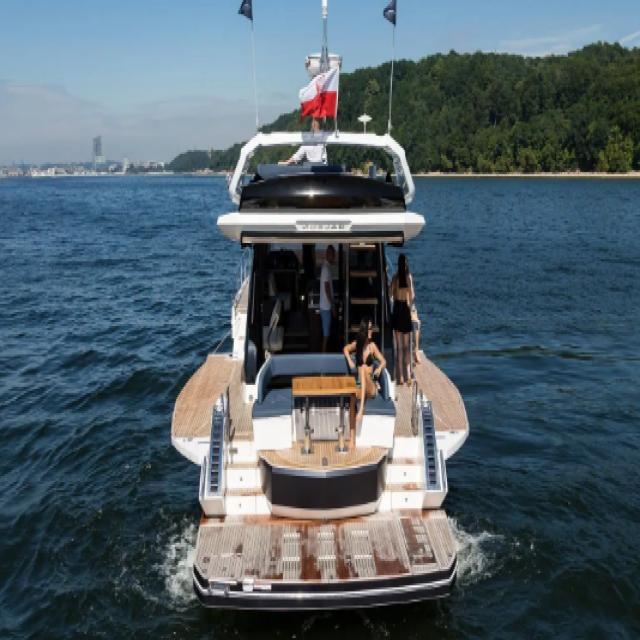houseboat: (172, 0, 468, 602)
